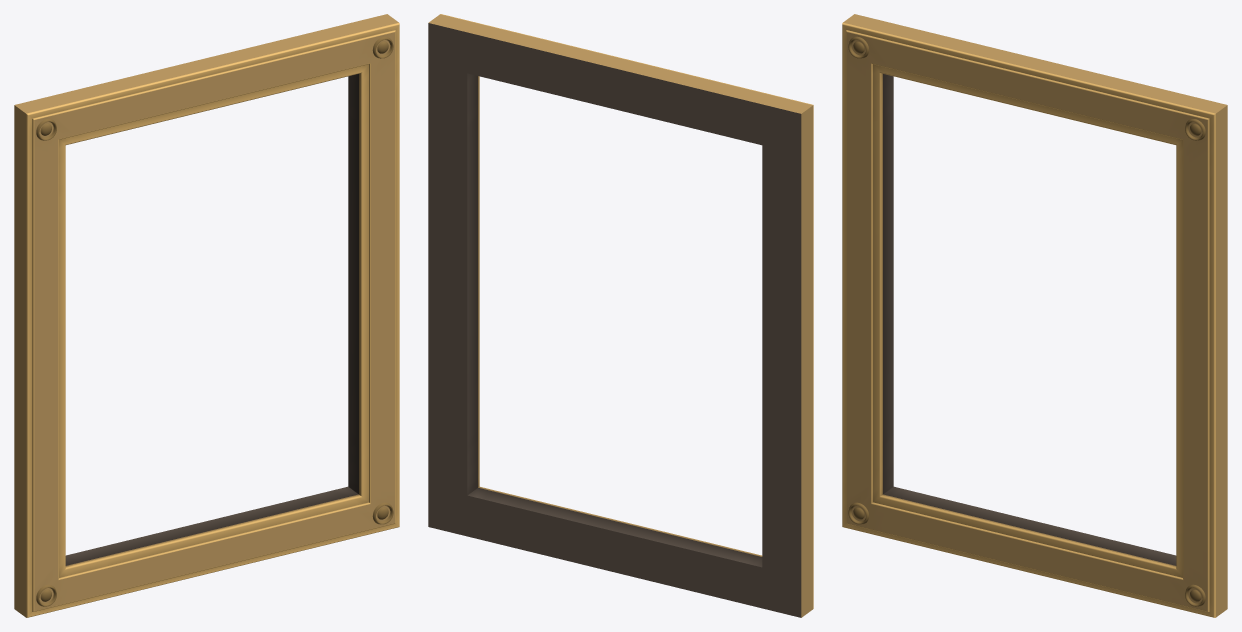
Rendered from 06-plamennaya-zhenshchina.glb.
3 renders of one model, left to right at view 1: azimuth 30°, elevation 25°; view 2: azimuth 150°, elevation 25°; view 3: azimuth 330°, elevation 25°, orthographic.
Parts seen in each view (by area): view 1: Frame; view 2: Frame; view 3: Frame.
Part boxes in pixels (x1,y1,x2,y2): Frame: (14,14,399,617); Frame: (428,14,813,617); Frame: (842,14,1227,617).
Bounding box in the file's own units: 0.9101 × 1.18 × 0.0663.
